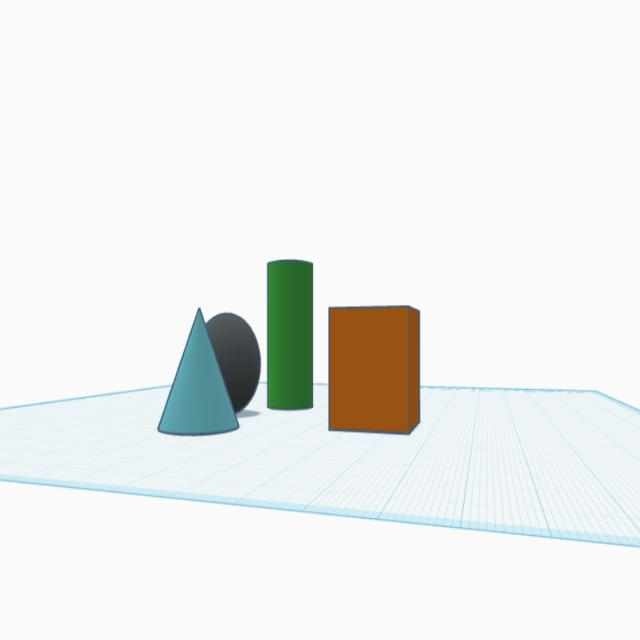cone: (156, 307, 242, 443)
cube: (326, 295, 423, 442)
